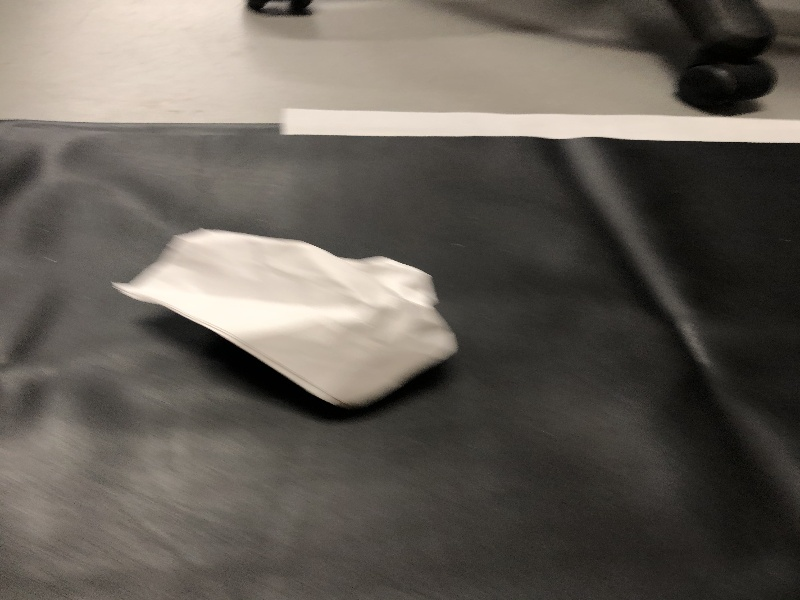paper: (96, 204, 475, 429)
